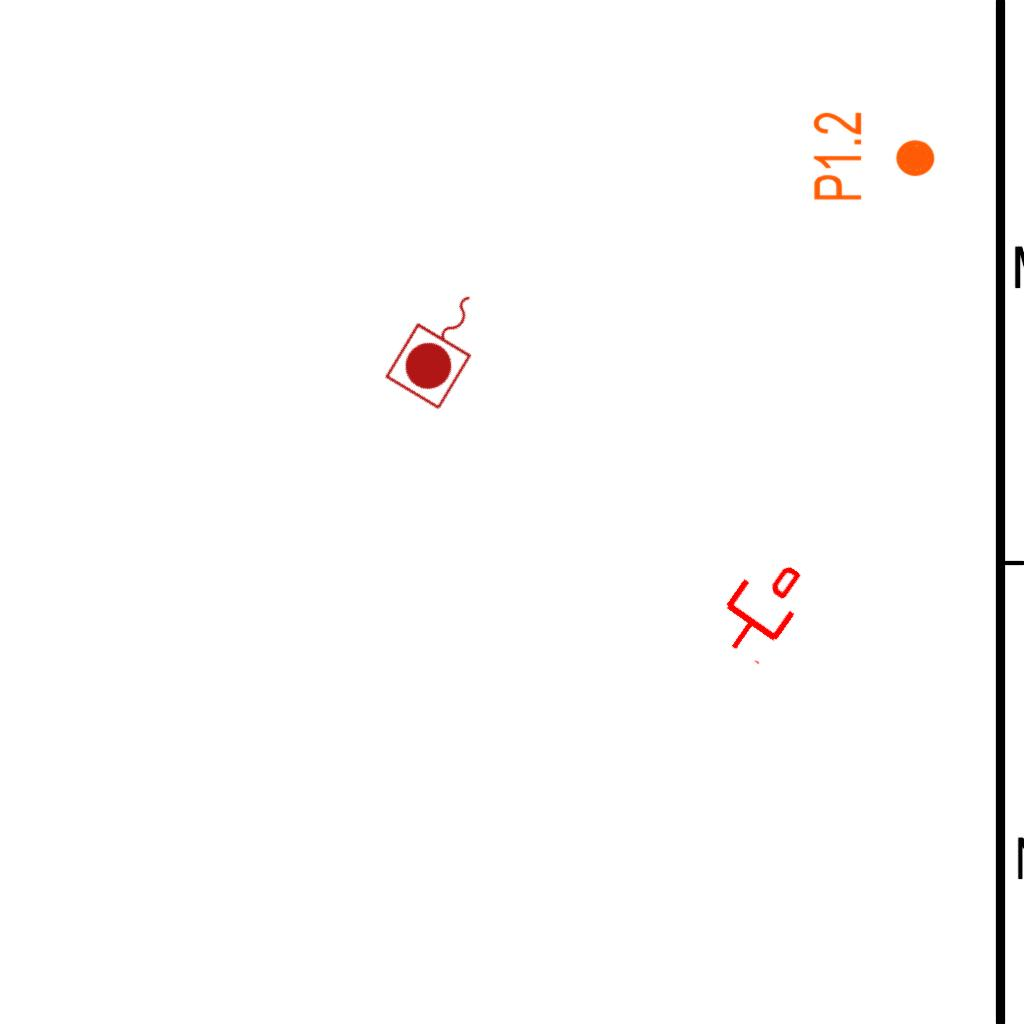Datenanschluss_einfach: (704, 547, 819, 669)
Downlight_LED_Einbauleuchten_Flur: (810, 110, 938, 203)
Zugtaster: (379, 274, 505, 416)
